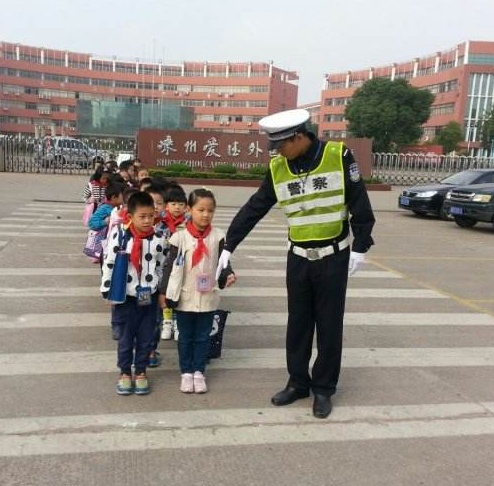person with partial safety: (259, 115, 359, 419)
person without safety: (106, 195, 173, 394), (177, 189, 229, 402)
safety vest: (275, 149, 351, 242)
